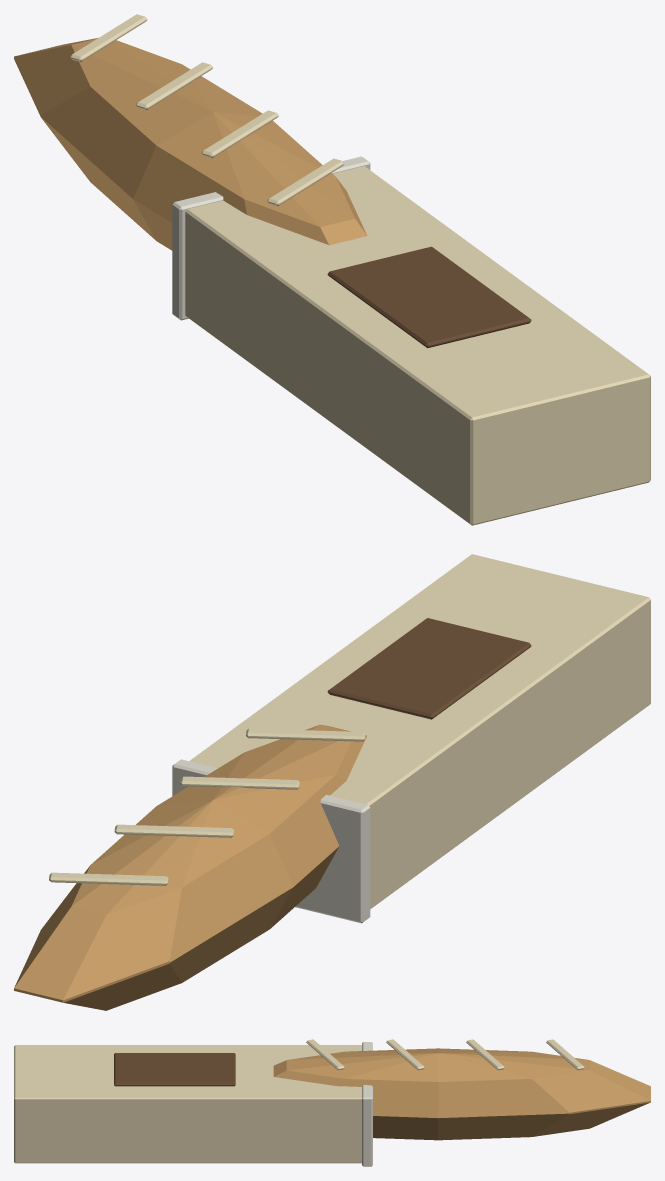
The model's file is b16_baguette_in_paper_sleeve.glb.
3 renders of one model, top to bottom at view 1: azimuth 30°, elevation 25°; view 2: azimuth 150°, elevation 25°; view 3: azimuth 270°, elevation 25°, orthographic. The views are drawn at different scales.
Visible parts, largest first — view 1: b16_baguette_in_paper_sleeve; view 2: b16_baguette_in_paper_sleeve; view 3: b16_baguette_in_paper_sleeve.
Boxes of the visible parts, box(x1,y1,x2,y2) form: b16_baguette_in_paper_sleeve: box(14, 14, 650, 525); b16_baguette_in_paper_sleeve: box(14, 554, 650, 1010); b16_baguette_in_paper_sleeve: box(14, 1039, 650, 1166).
Size of the model in its own units: 0.074 by 0.052 by 0.3505.
